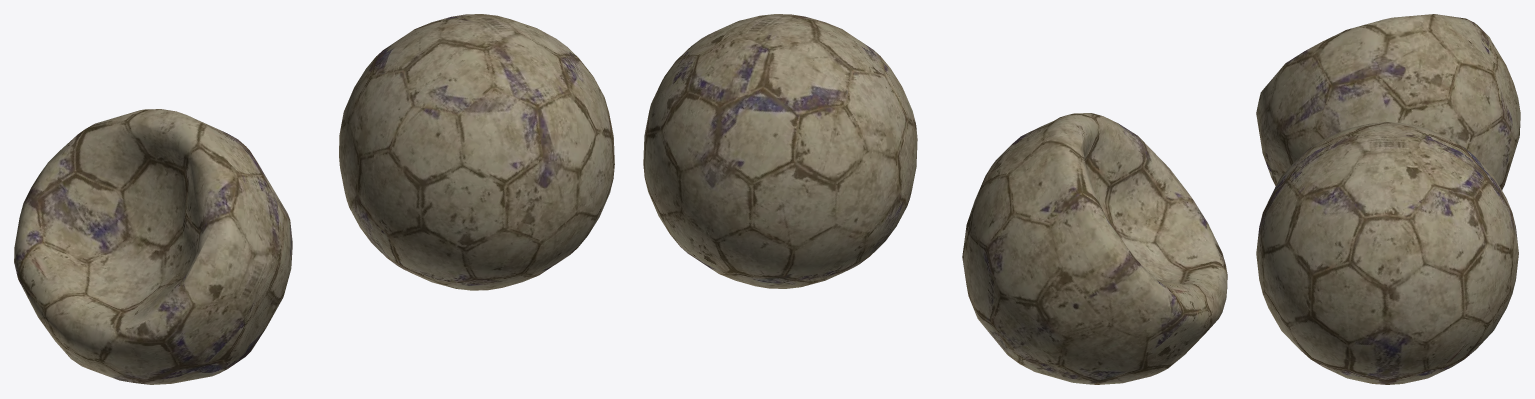
The model's file is football.glb.
3 views of the same model, side by side, from view 1: azimuth 30°, elevation 25°; view 2: azimuth 150°, elevation 25°; view 3: azimuth 270°, elevation 25° (orthographic). The views are drawn at different scales.
Parts seen in each view (by area): view 1: football_deflated; view 2: football_deflated; view 3: football_deflated.
Part boxes in pixels (<box>): football_deflated: <box>14,14,614,384</box>; football_deflated: <box>643,14,1227,384</box>; football_deflated: <box>1256,14,1520,384</box>.
Bounding box in the file's own units: 0.5089 × 0.2219 × 0.2222.
1 material, 1 textured.
